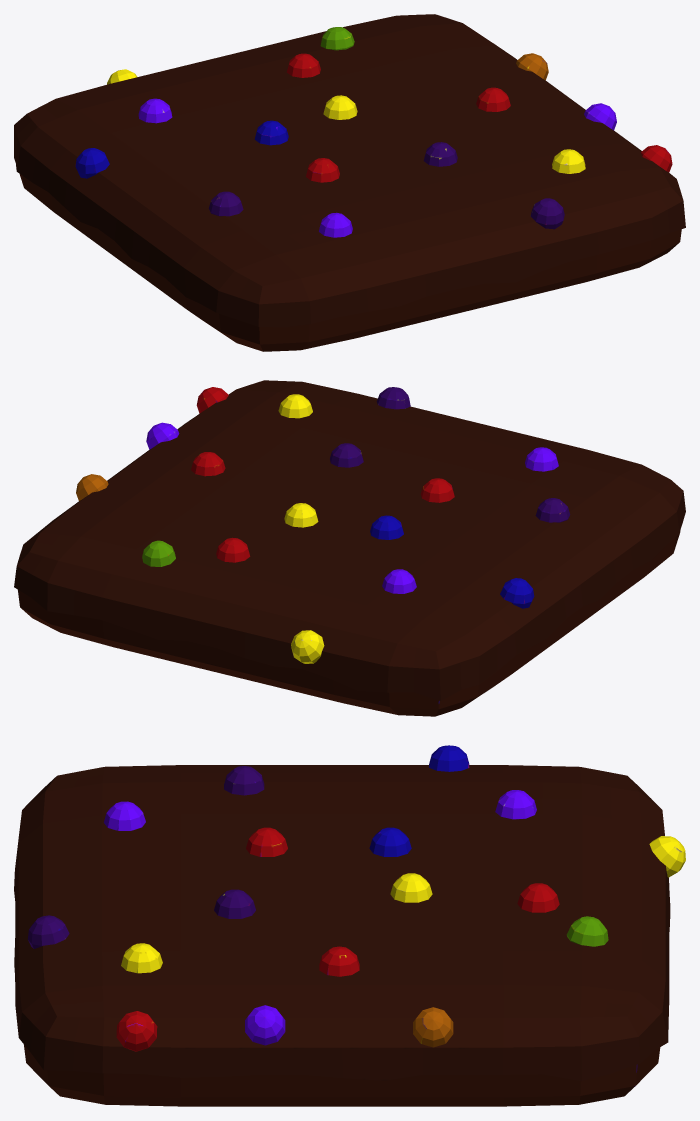
Rendered from brownie.fbx.
3 renders of one model, top to bottom at view 1: azimuth 30°, elevation 25°; view 2: azimuth 150°, elevation 25°; view 3: azimuth 270°, elevation 25°, orthographic. The views are drawn at different scales.
Visible parts, largest first — view 1: brownie; view 2: brownie; view 3: brownie.
Boxes of the visible parts, left/top/right/bottom form: brownie: left=14, top=14, right=685, bottom=351; brownie: left=14, top=380, right=685, bottom=716; brownie: left=14, top=745, right=685, bottom=1106.
Size of the model in its own units: 31.03 by 6.64 by 31.74.
Materials: 1 (1 with a texture image).
